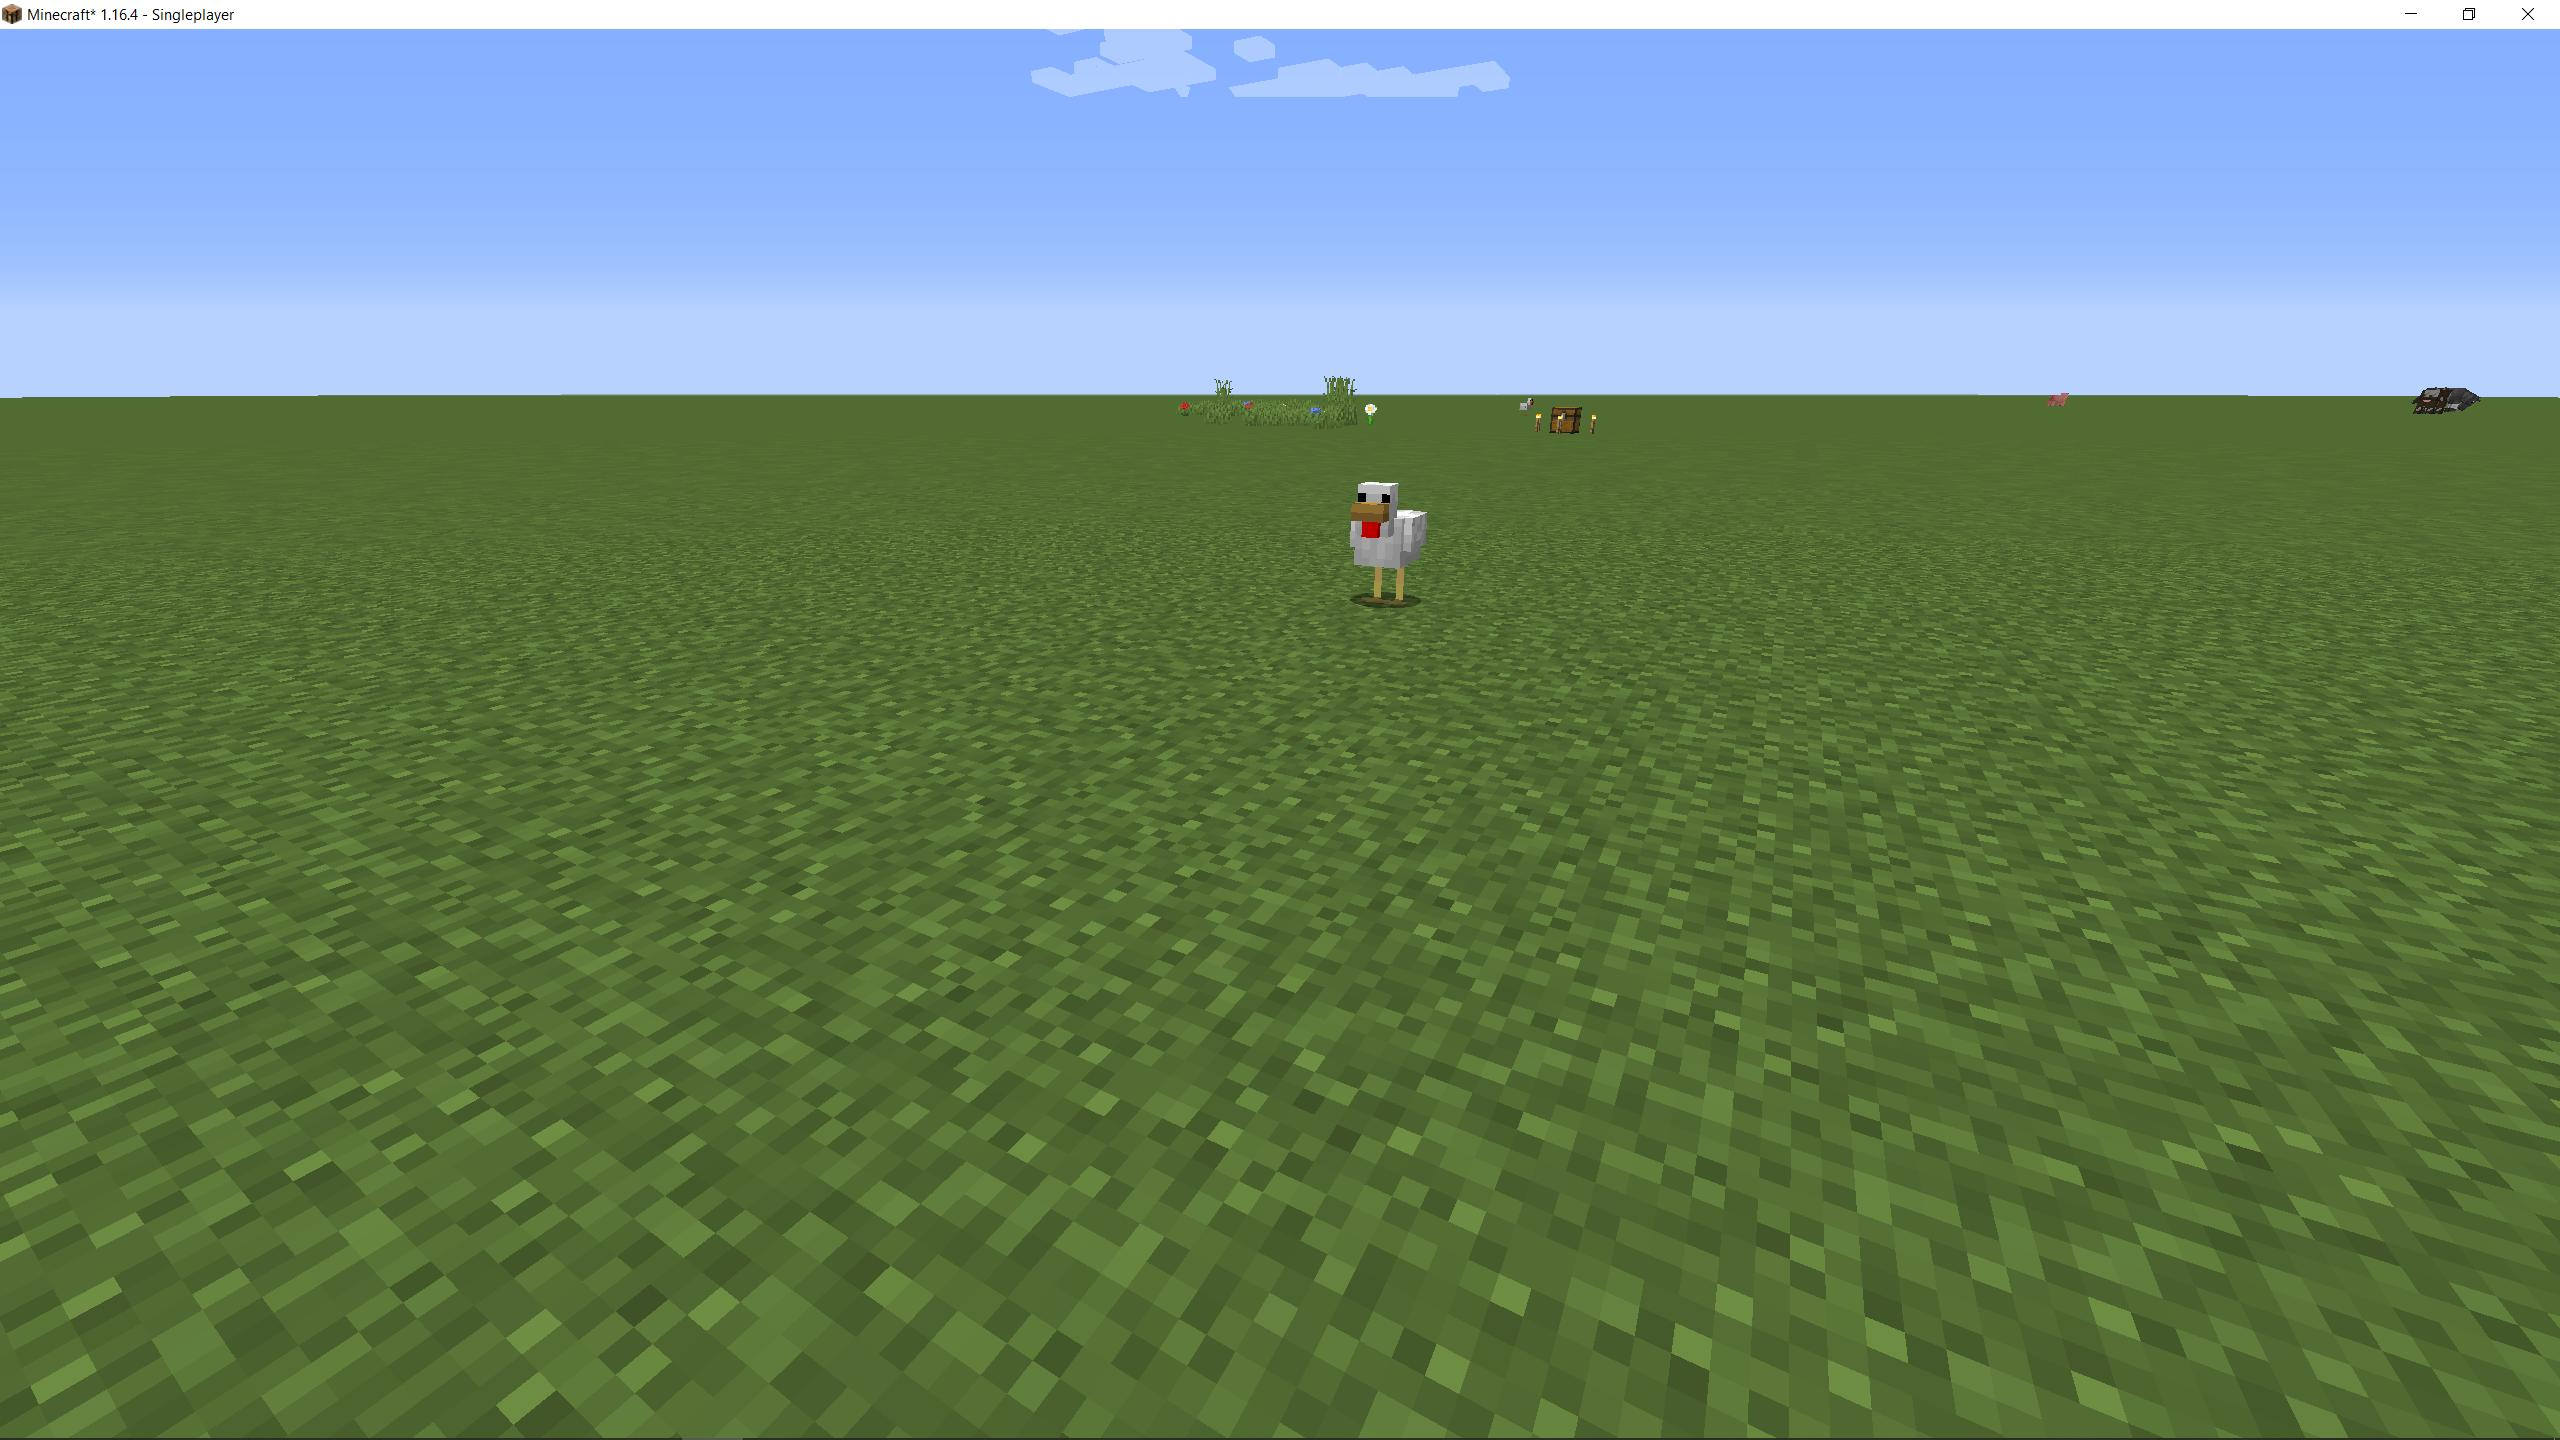chicken: (1340, 476, 1431, 622)
